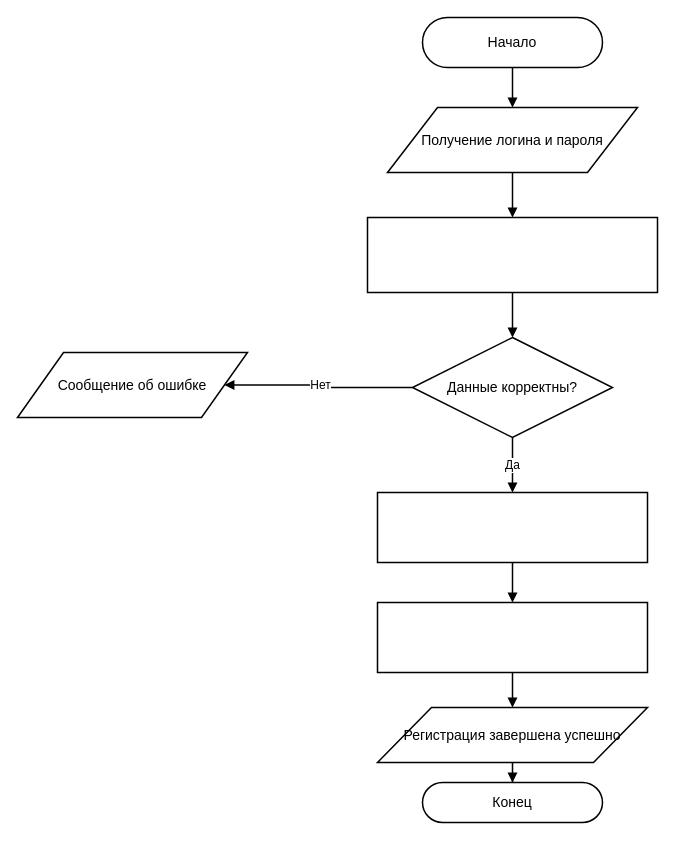
This 676x841 diagram has some shape labels left out. Here are the shapes that lost their labels. From the top down, the centre of each, then its label:
At [512,254]: "Проверка корректности логина и пароля".
At [512,527]: "Формирование хеша пароля с солью".
At [512,637]: "Сохранение логина и хеша в базе данных".
